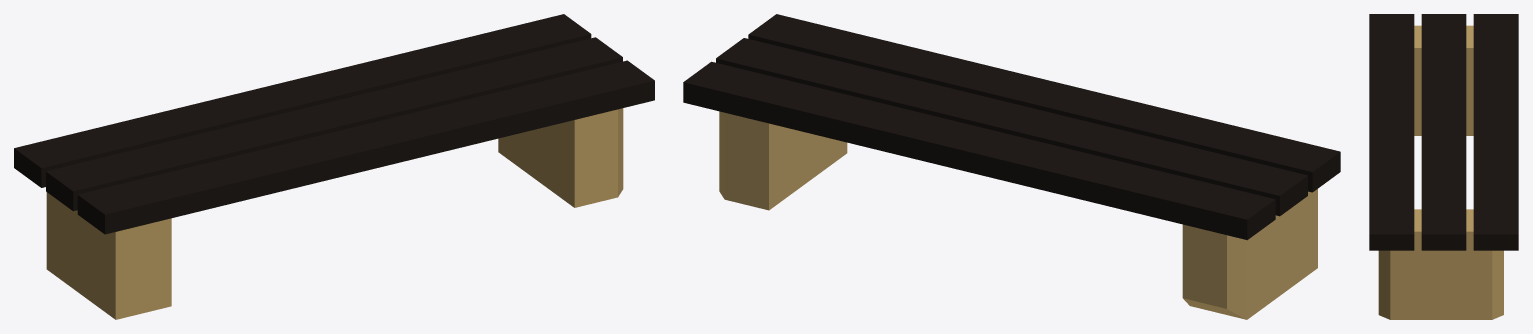
The model's file is Bench.FBX.
3 views of the same model, side by side, from view 1: azimuth 30°, elevation 25°; view 2: azimuth 150°, elevation 25°; view 3: azimuth 270°, elevation 25° (orthographic). The views are drawn at different scales.
Parts seen in each view (by area): view 1: bench; view 2: bench; view 3: bench.
Boxes of the visible parts, x1,y1,x2,y2 form: bench: (14,14,654,319); bench: (683,14,1340,319); bench: (1369,14,1518,319).
Bounding box in the file's own units: 18.33 × 3.61 × 5.24.
